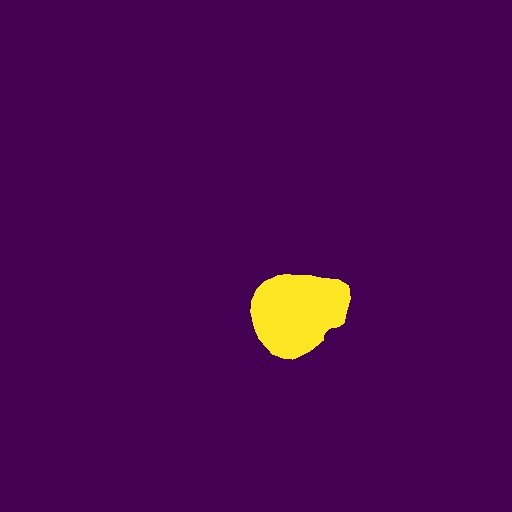Menigiomia_tumour: (250, 274, 351, 360)
